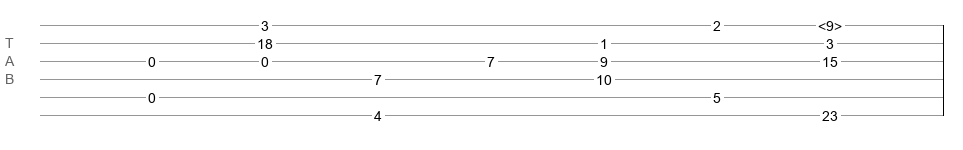0: (148, 90, 156, 100), (148, 54, 156, 64), (261, 54, 269, 64)
1: (600, 36, 608, 46)
10: (596, 72, 612, 82)
15: (822, 54, 838, 64)
18: (257, 36, 273, 46)
2: (713, 18, 721, 28)
23: (822, 108, 838, 118)
3: (261, 18, 269, 28), (826, 36, 834, 46)
4: (374, 108, 382, 118)
5: (713, 90, 721, 100)
7: (374, 72, 382, 82), (487, 54, 495, 64)
9: (600, 54, 608, 64)
harmonic: (818, 18, 842, 28)
